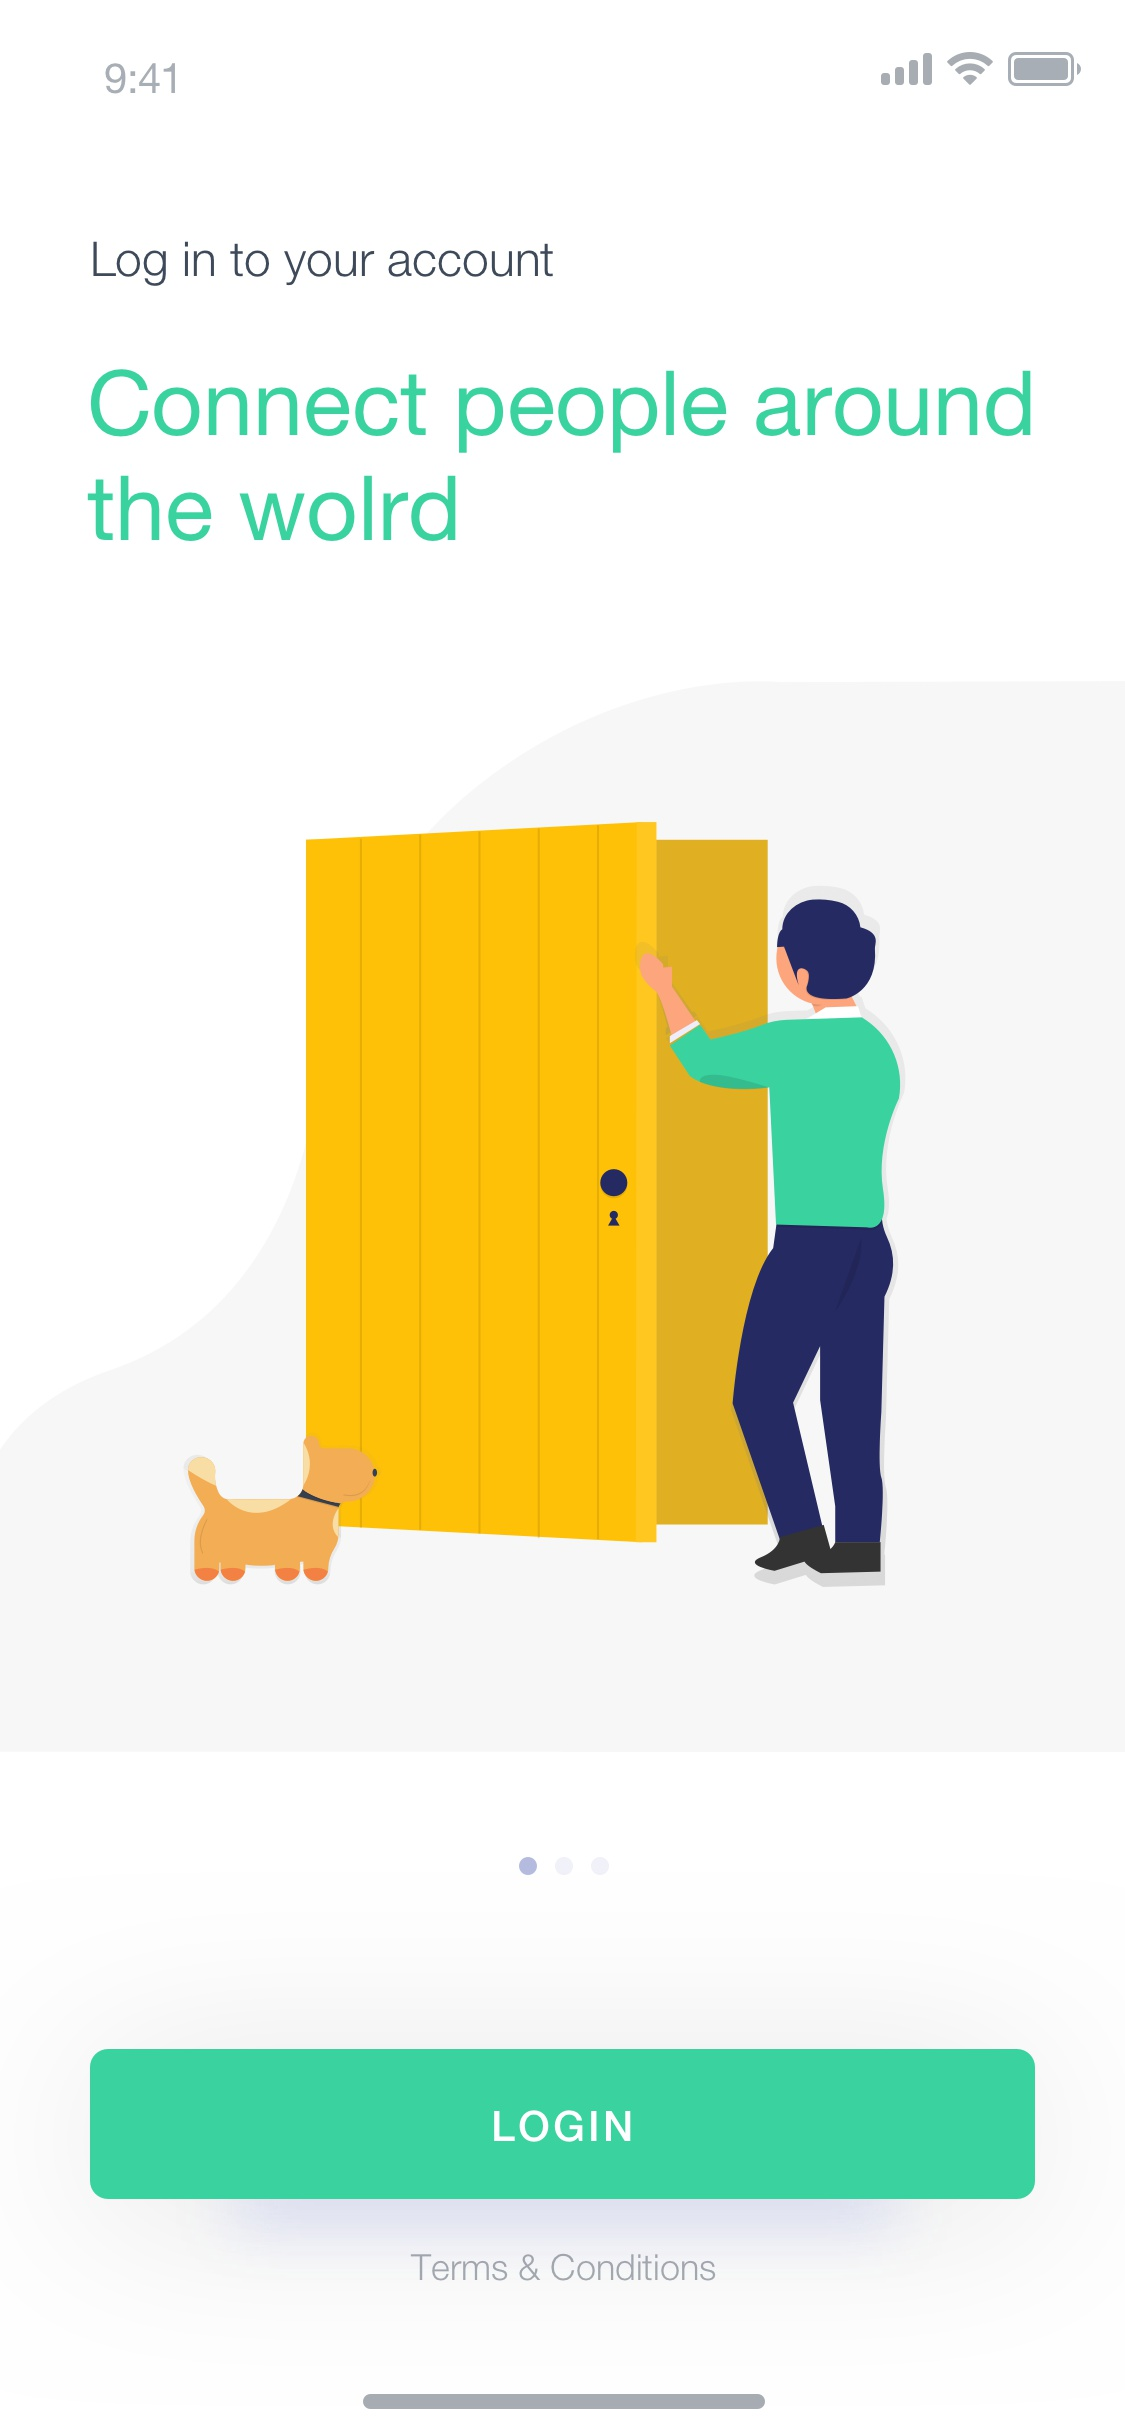Image: (183, 820, 904, 1588)
PageIndicator: (517, 1853, 612, 1878)
Text: (87, 368, 1033, 544), (92, 239, 556, 287), (410, 2253, 716, 2282)
TextButton: (90, 2049, 1036, 2200)
UpperTaskBar: (106, 51, 1083, 96)
